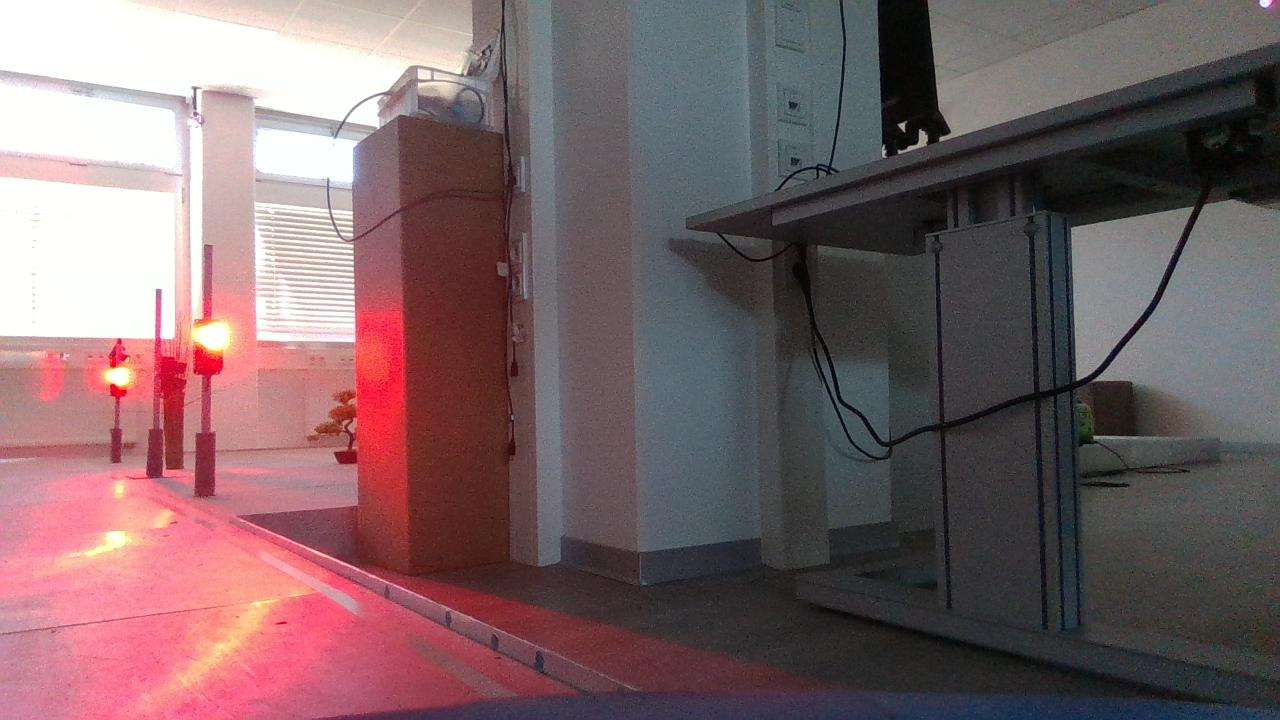traffic_light_red: (176, 311, 241, 386)
